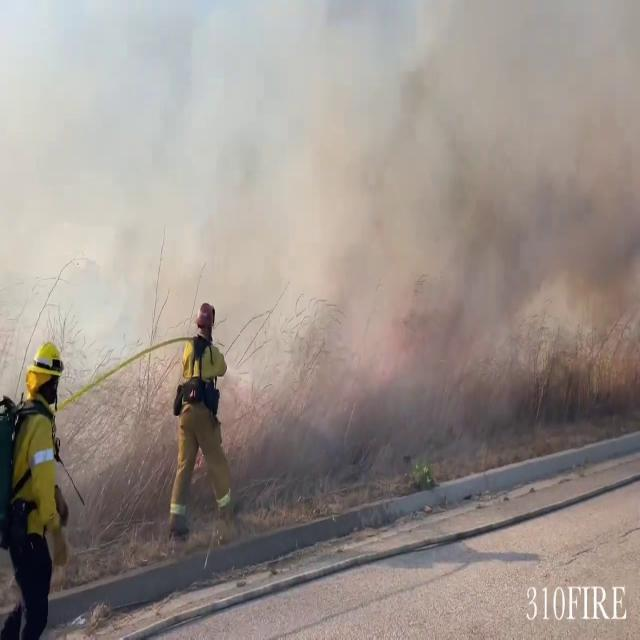Smoke: (240, 1, 640, 528)
